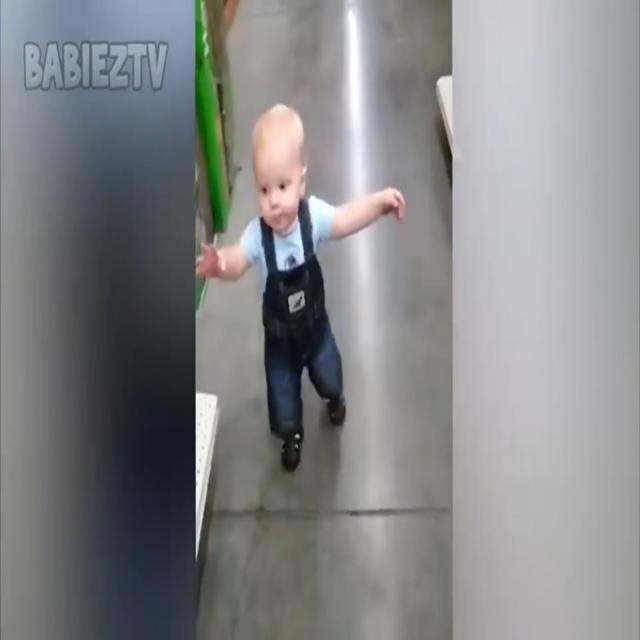child: (196, 102, 406, 472)
